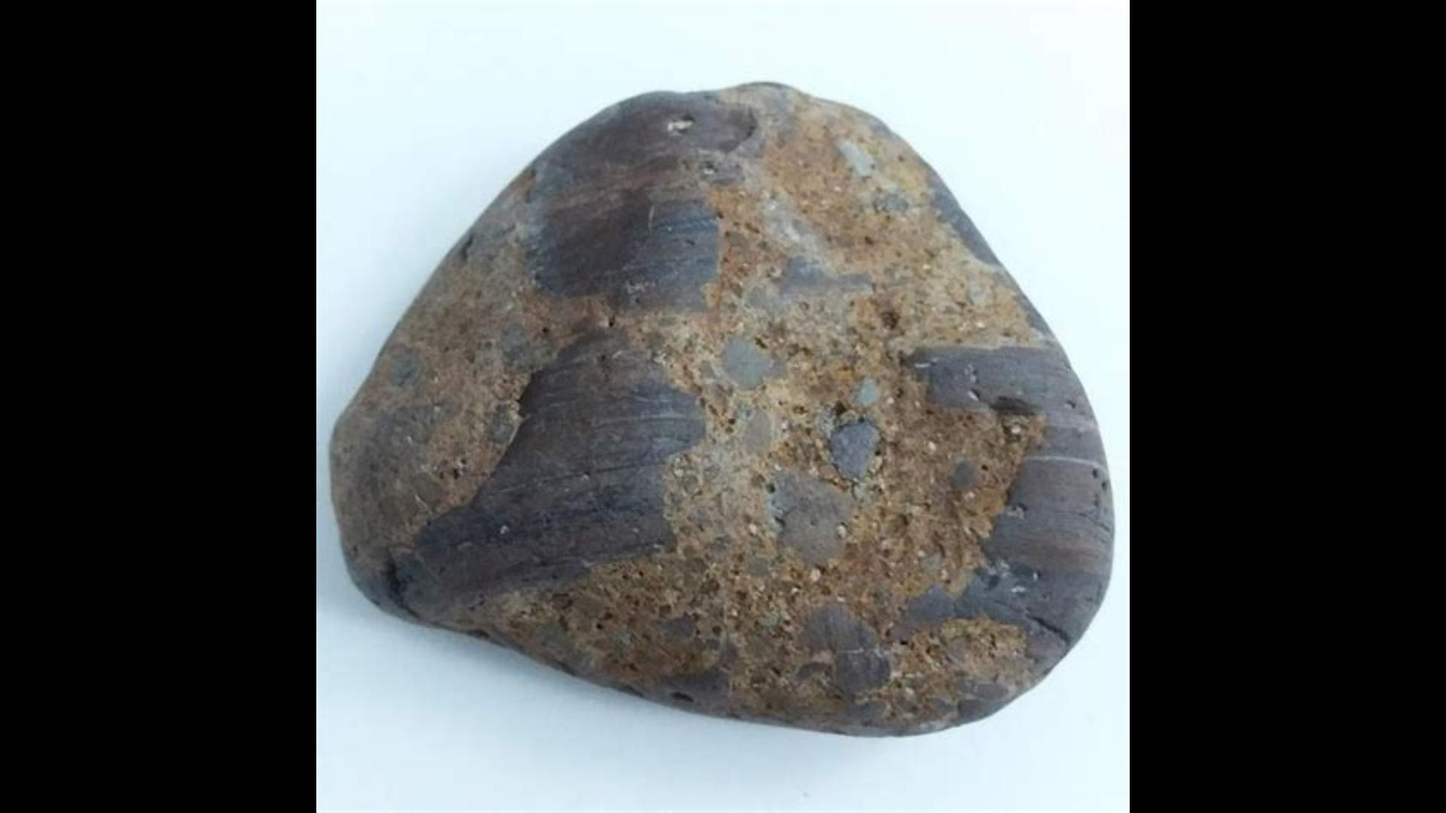rock: (333, 84, 1102, 729)
